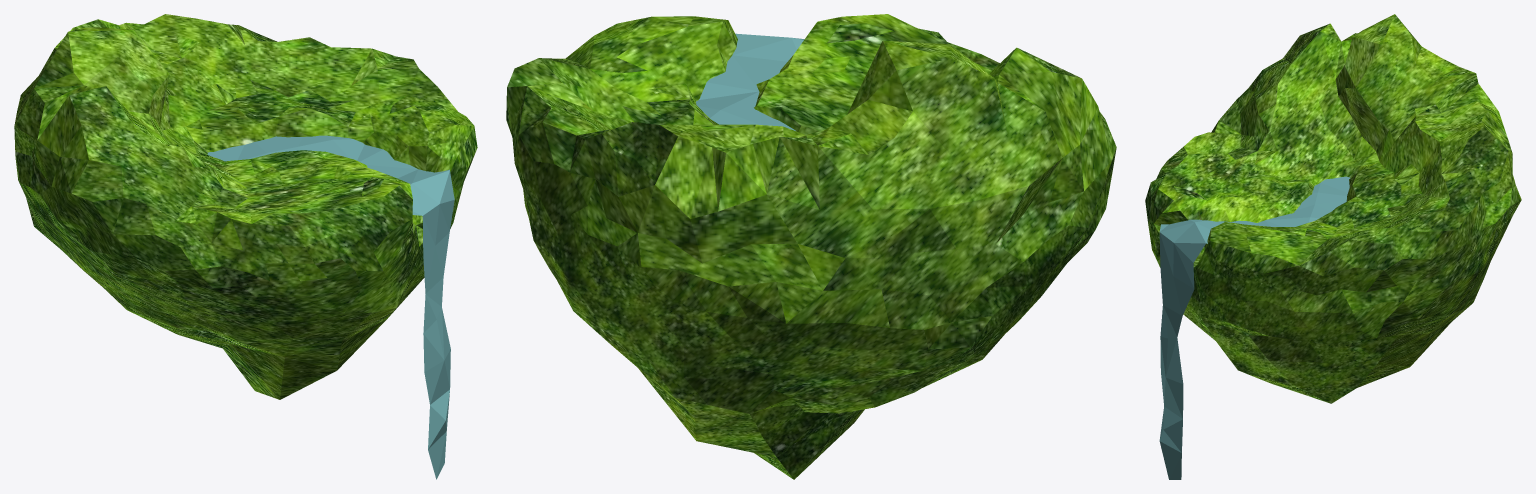
Rendered from island2.obj.
The picture shows the model from 3 angles, left to right: view 1: azimuth 30°, elevation 25°; view 2: azimuth 150°, elevation 25°; view 3: azimuth 270°, elevation 25°; orthographic projection. The views are drawn at different scales.
Parts seen in each view (by area): view 1: Icosphere_Icosphere.001, Plane; view 2: Icosphere_Icosphere.001, Plane; view 3: Icosphere_Icosphere.001, Plane.
Part boxes in pixels (x1=…): Icosphere_Icosphere.001: x1=14, y1=14, x2=477, y2=399; Plane: x1=207, y1=135, x2=454, y2=479; Icosphere_Icosphere.001: x1=506, y1=14, x2=1116, y2=479; Plane: x1=696, y1=33, x2=804, y2=130; Icosphere_Icosphere.001: x1=1145, y1=14, x2=1521, y2=403; Plane: x1=1159, y1=176, x2=1350, y2=479.
Bounding box in the file's own units: 22.17 × 22.17 × 20.85.
2 materials, 2 textured.
